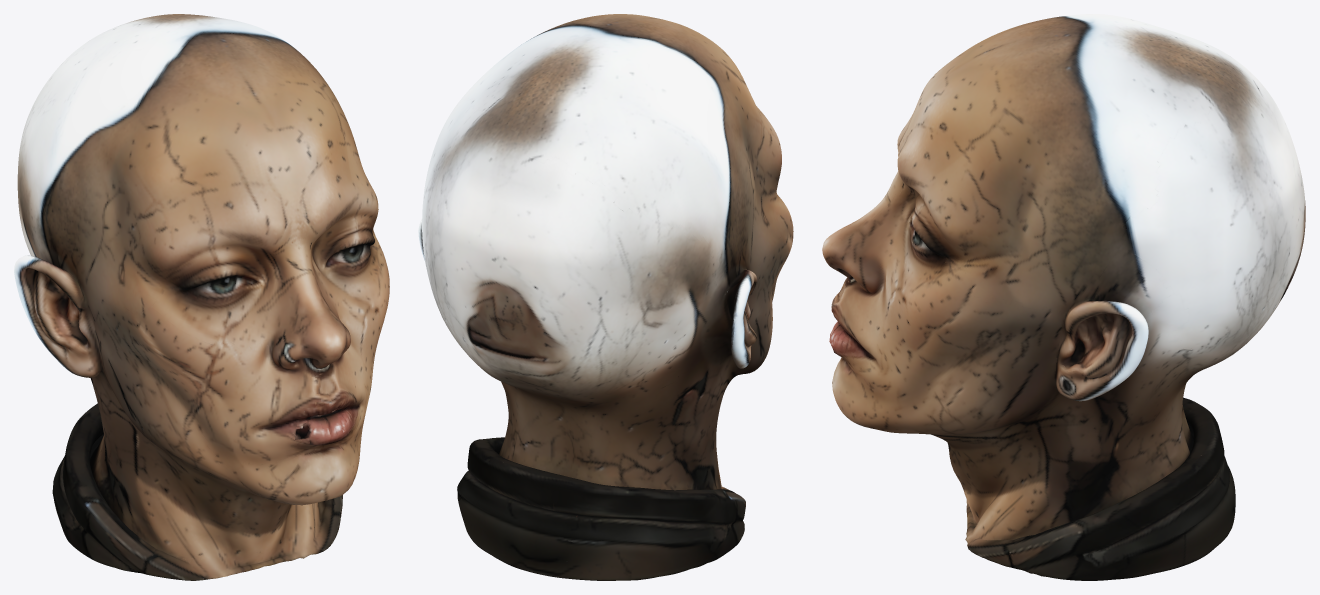
The model's file is character_garla.fbx.
The picture shows the model from 3 angles, left to right: view 1: azimuth 30°, elevation 25°; view 2: azimuth 150°, elevation 25°; view 3: azimuth 270°, elevation 25°; orthographic projection.
Visible parts, largest first — view 1: model; view 2: model; view 3: model.
Part boxes in pixels (x1,y1,x2,y2): model: [14, 14, 389, 580]; model: [418, 14, 793, 580]; model: [822, 14, 1305, 580].
Size of the model in its own units: 132 by 190 by 169.
